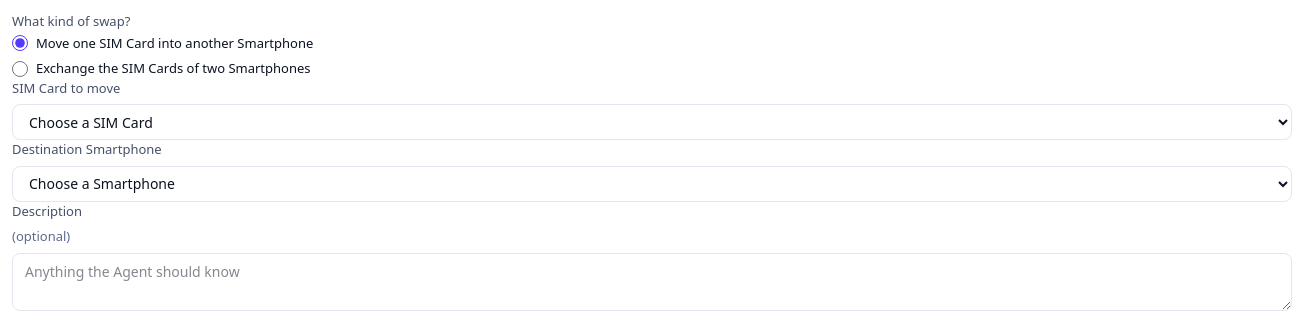
Scenario: SimSwapRequestDetails › the second picker only offers SIM Cards installed in a different Smartphone from the first
Click the radio button labelled "Exchange the SIM Cards of two Smartphones" at point(20, 69), box [12,61,28,77]
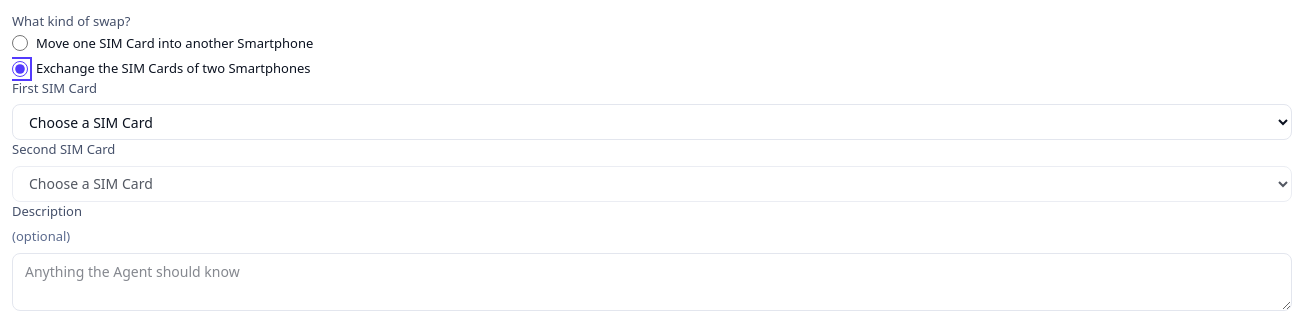
Select "+1-555-0100" in the dropdown labelled "First SIM Card" at point(652, 122), box [12,104,1292,140]
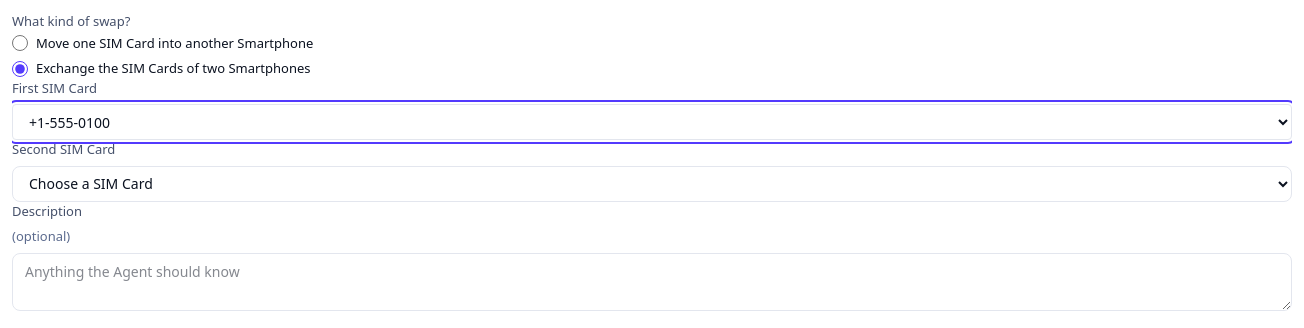
Check: the dropdown labelled "Second SIM Card" is enabled, box [12,166,1292,202]
